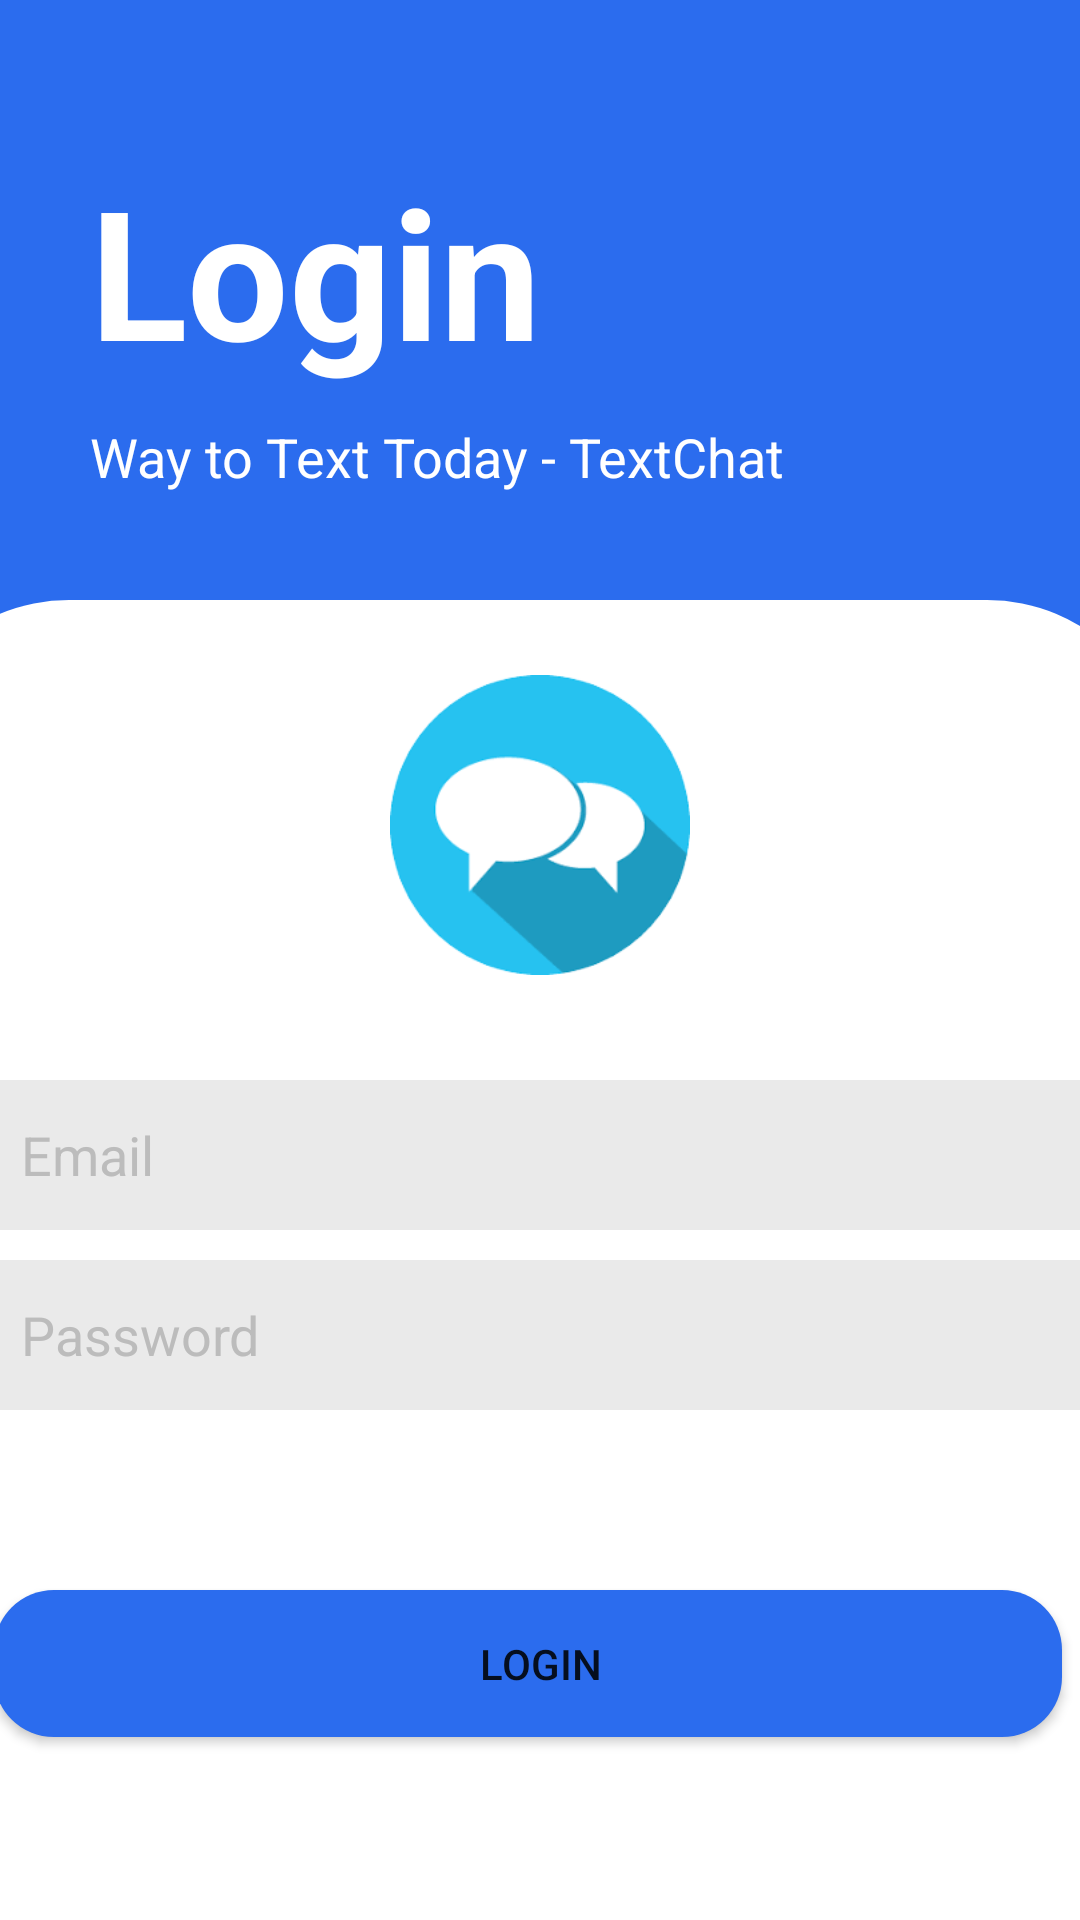

Icons on this 1080px×1920px Android screen, each with the point to tap as (x,y):
appimage: (540,825)
